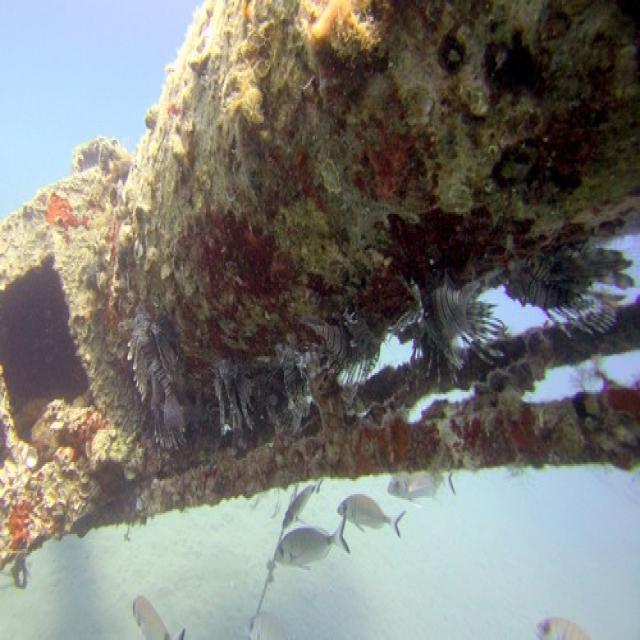Aslan Baligi: (498, 228, 636, 354), (114, 304, 204, 463), (392, 260, 505, 384), (312, 293, 392, 408), (268, 320, 329, 449), (214, 344, 264, 456)
